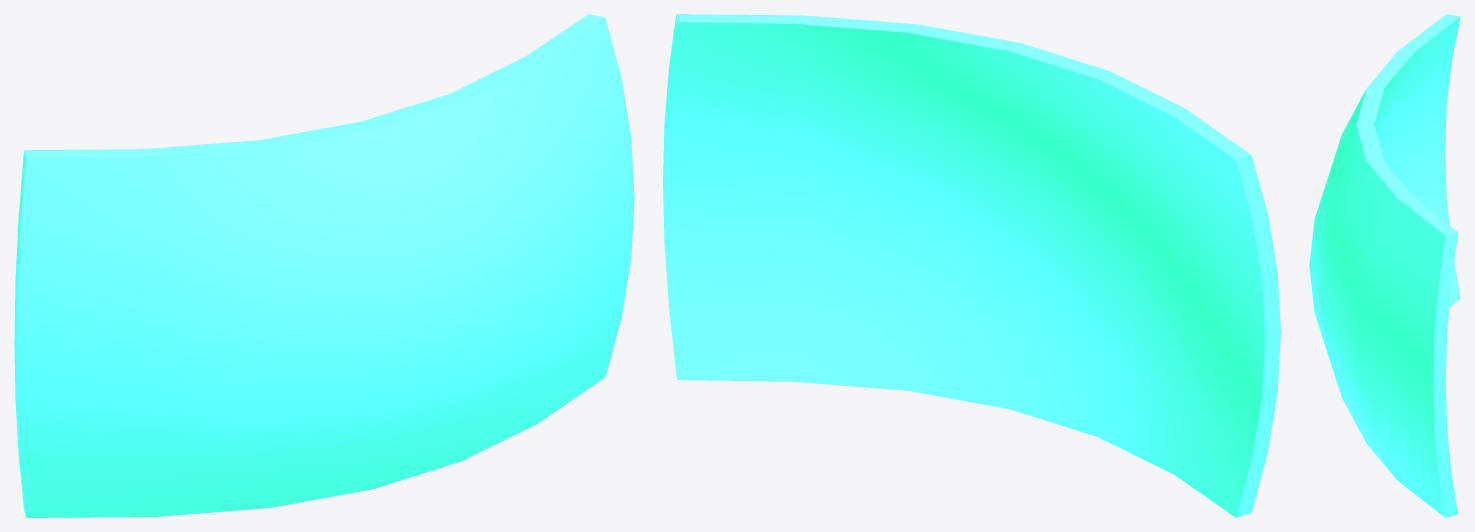
The model's file is EnemyShield_ForImport.FBX.
The picture shows the model from 3 angles, left to right: view 1: azimuth 30°, elevation 25°; view 2: azimuth 150°, elevation 25°; view 3: azimuth 270°, elevation 25°; orthographic projection. The views are drawn at different scales.
Visible parts, largest first — view 1: Box001; view 2: Box001; view 3: Box001.
Part boxes in pixels (x1,y1,x2,y2): Box001: (14,14,634,517); Box001: (663,14,1280,517); Box001: (1309,14,1460,517).
Size of the model in its own units: 108 by 60 by 29.14.
